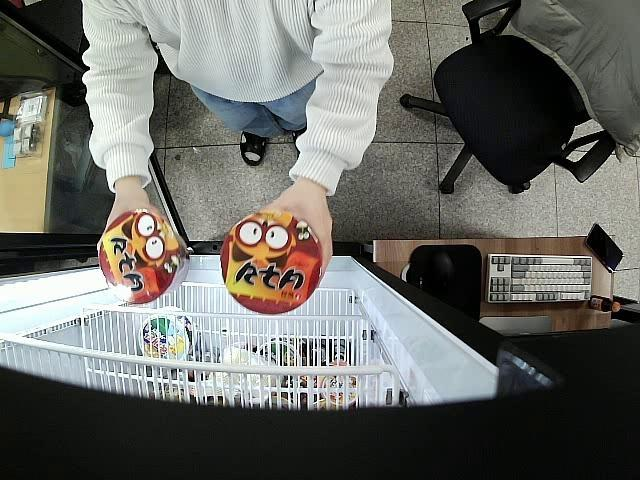05_nuguri_L: (218, 210, 323, 314), (99, 210, 188, 304)
